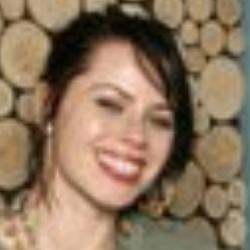face: (22, 9, 206, 228)
